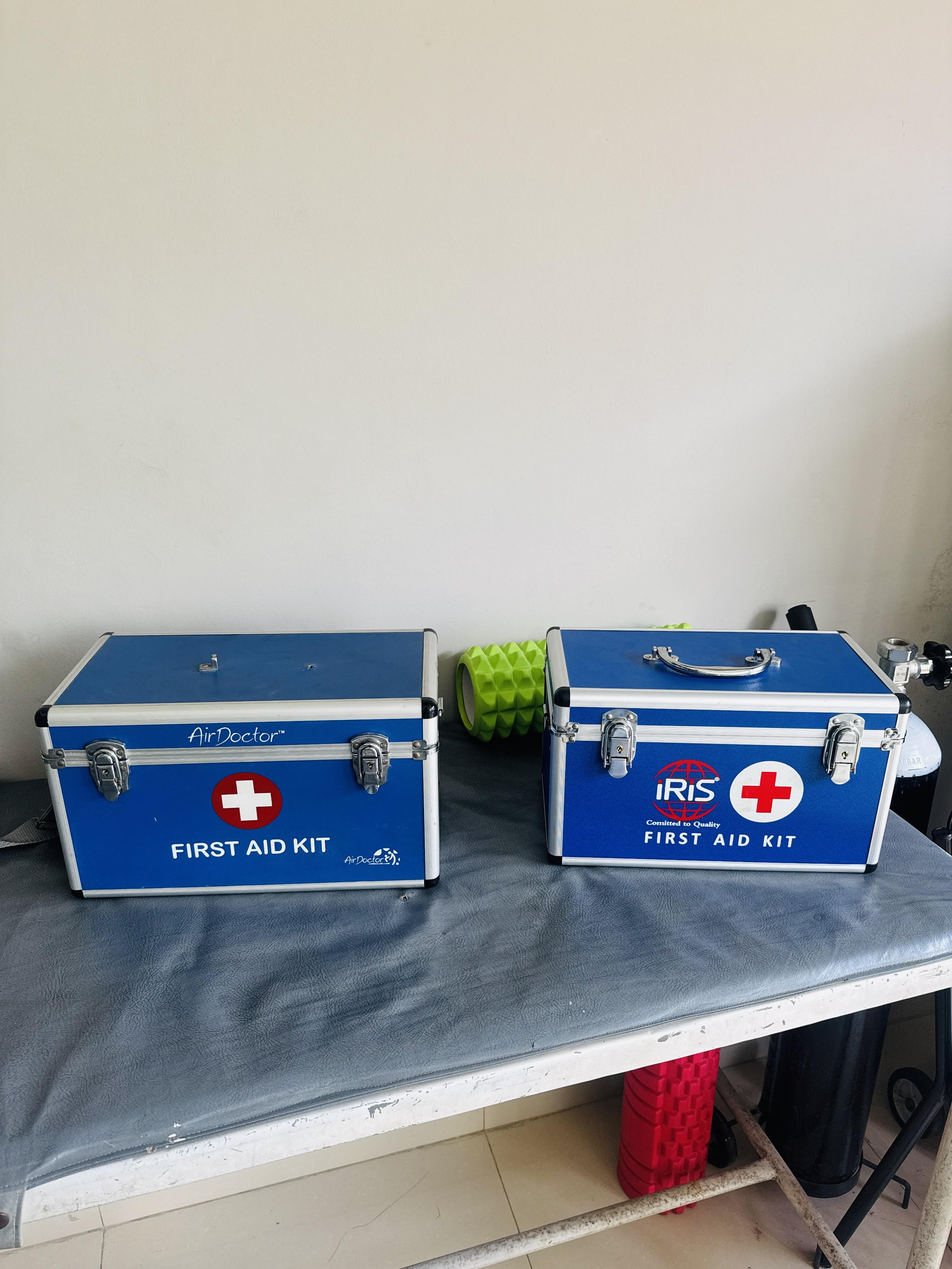FirstAidBox: (14, 618, 464, 907), (529, 610, 918, 901)
